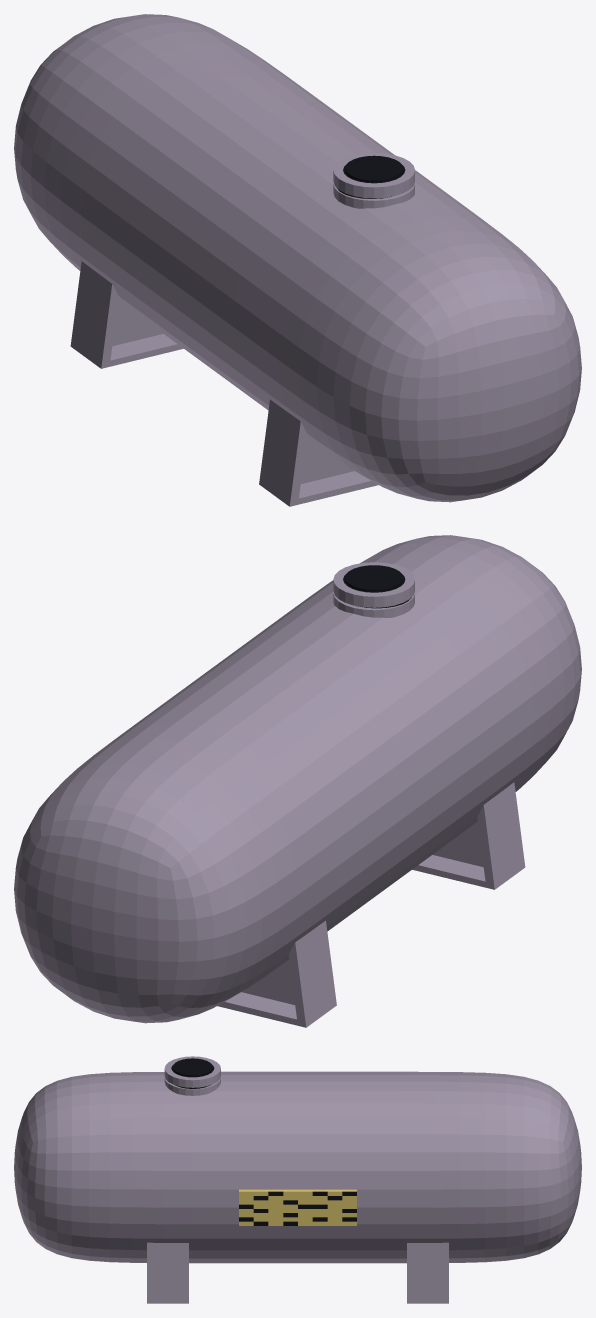
The model's file is gas-tank-mid-poly-2.fbx.
The picture shows the model from 3 angles, top to bottom: view 1: azimuth 30°, elevation 25°; view 2: azimuth 150°, elevation 25°; view 3: azimuth 270°, elevation 25°; orthographic projection. The views are drawn at different scales.
Visible parts, largest first — view 1: tank, Cube, Cube.001; view 2: tank, Cube.001, Cube; view 3: tank, Cube.002, Cube, Cube.001.
Boxes of the visible parts, bbox=[...] form: tank: bbox=[14, 14, 581, 502]; Cube: bbox=[259, 399, 378, 506]; Cube.001: bbox=[70, 261, 183, 368]; tank: bbox=[14, 535, 581, 1023]; Cube.001: bbox=[217, 920, 336, 1027]; Cube: bbox=[412, 782, 525, 889]; tank: bbox=[14, 1056, 581, 1263]; Cube.002: bbox=[239, 1189, 356, 1225]; Cube: bbox=[147, 1242, 188, 1303]; Cube.001: bbox=[407, 1242, 448, 1303].
Size of the model in its own units: 326 by 368 by 961.
2 materials, 2 textured.
